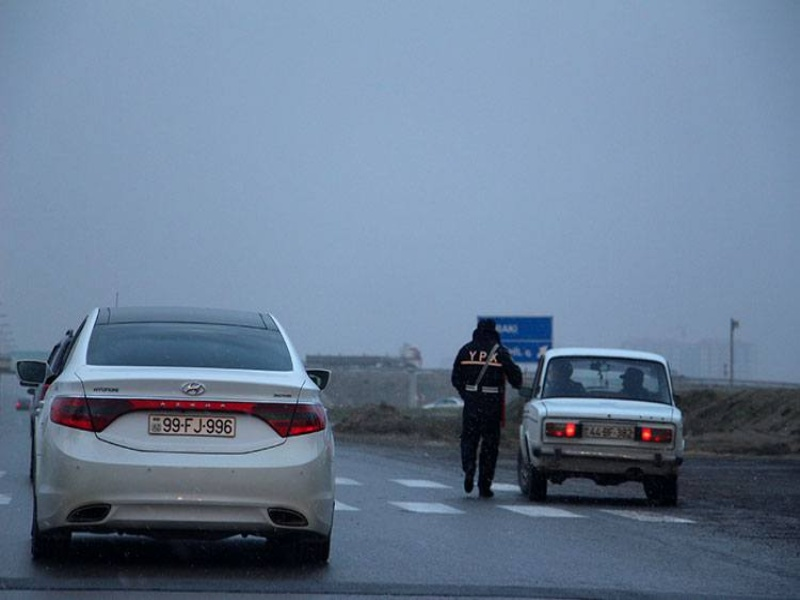car: (16, 306, 336, 566), (517, 349, 683, 502)
person: (450, 319, 523, 500), (546, 361, 586, 396), (618, 368, 644, 394)
plate: (149, 414, 235, 436), (586, 423, 634, 442)
